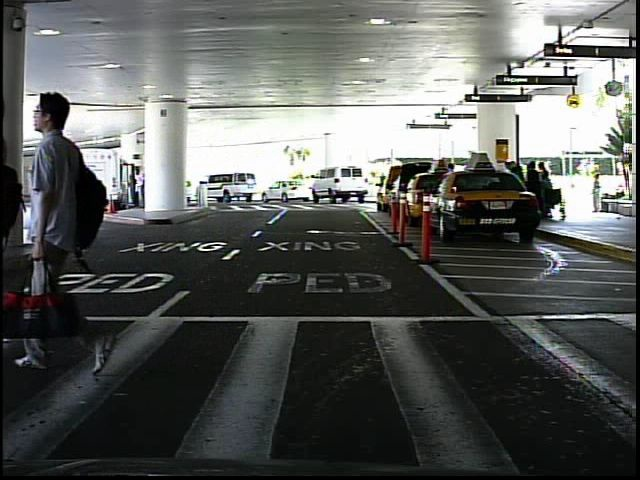person: (34, 68, 130, 385), (50, 171, 69, 221), (588, 172, 607, 218)
